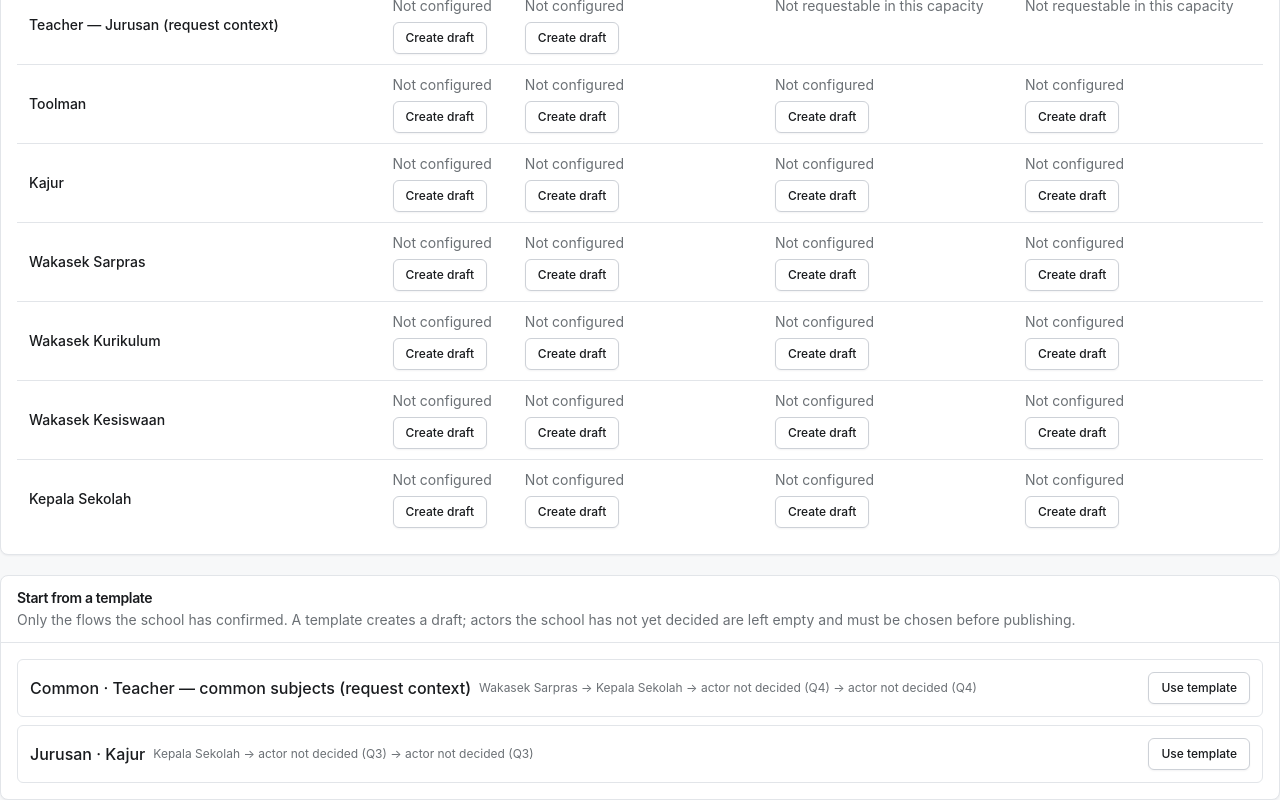
Test: the configuration grid › lists only the confirmed templates, naming undecided actors, and creates a DRAFT from one
This screenshot has width=1280, height=800.
(page scrolled)
Expected: the text "actor not decided (Q3)" is shown, [153,746,534,761]
Expected: the text "actor not decided (Q4)" is shown once, [479,680,977,696]
Click the 2nd button "Use template".
click(1199, 754)  # box [1148,738,1250,770]
(page scrolled)
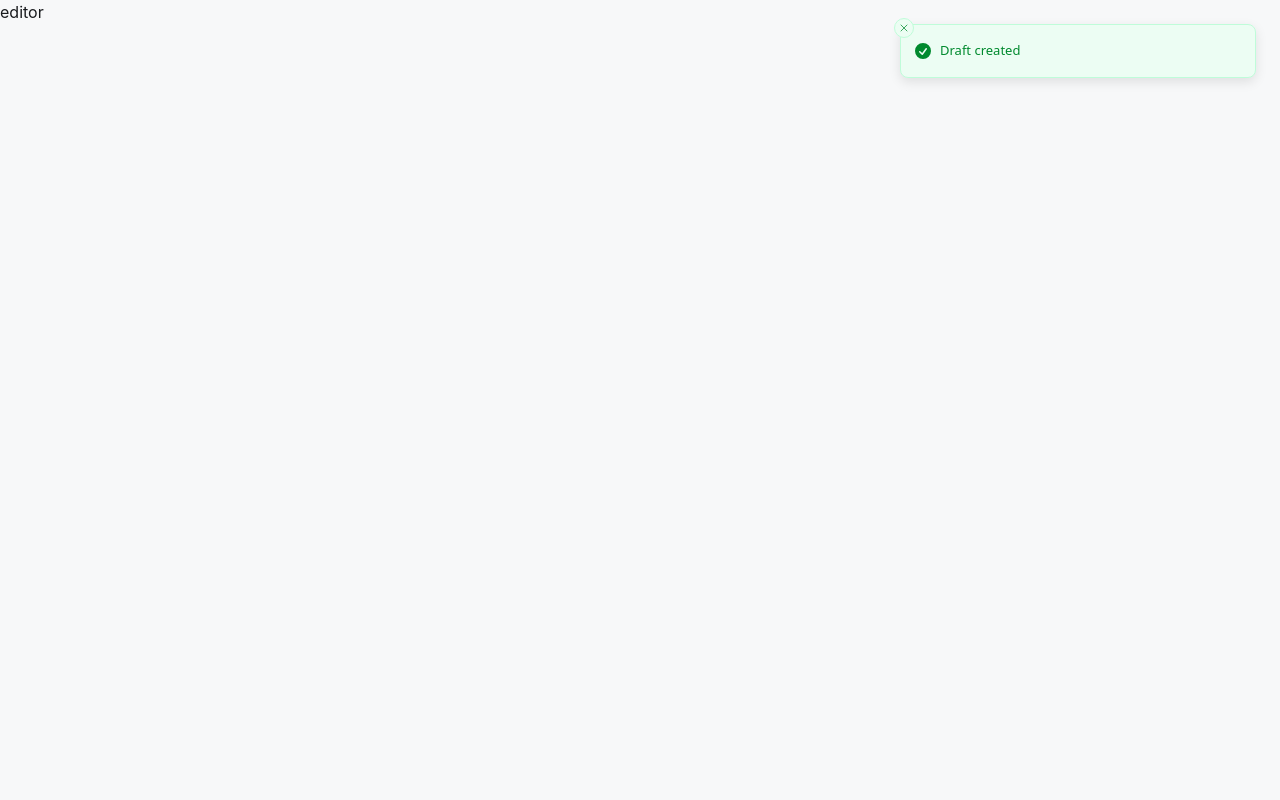
Expected: the text "editor" is shown, [0,2,44,22]
